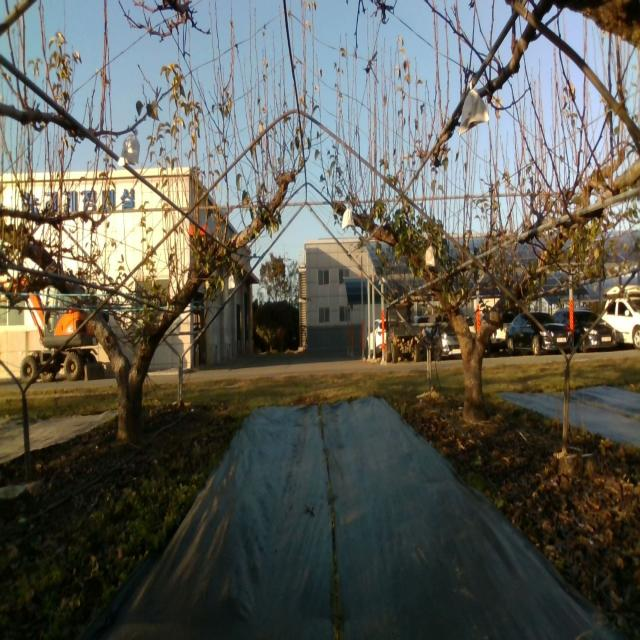pearbags: (458, 80, 490, 136), (117, 128, 140, 168), (341, 208, 356, 230), (425, 243, 437, 268)
